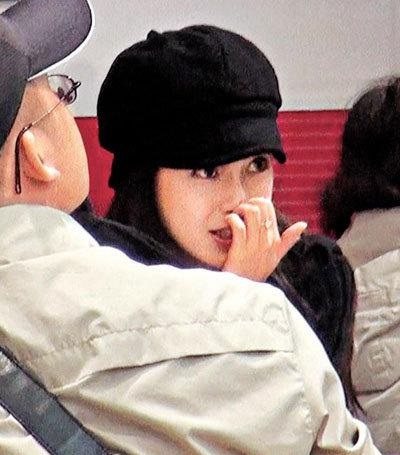face: (158, 113, 274, 267)
